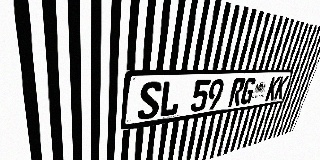5: (190, 79, 211, 113)
9: (205, 79, 225, 110)
G: (239, 77, 257, 105)
K: (265, 76, 281, 101), (273, 76, 289, 100)
L: (158, 80, 182, 118)
R: (228, 78, 246, 107)
S: (137, 81, 162, 121)
